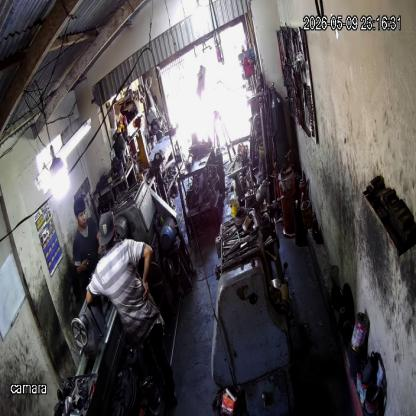sin_lentes: (76, 209, 88, 219)
